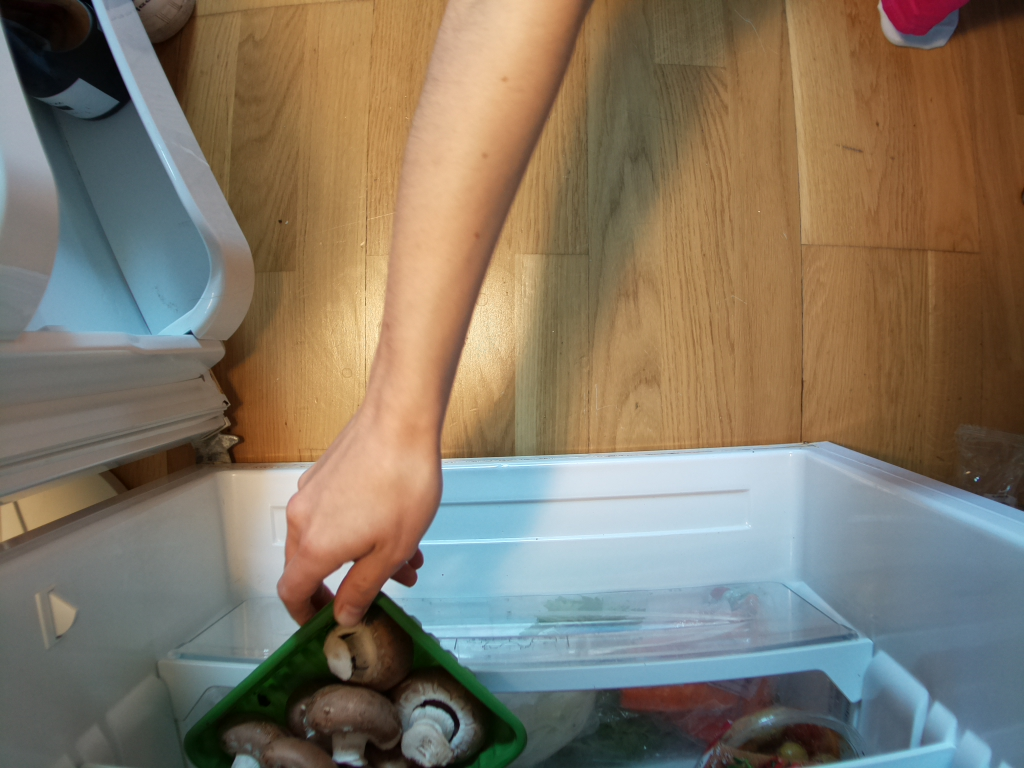mushrooms: (192, 590, 539, 768)
